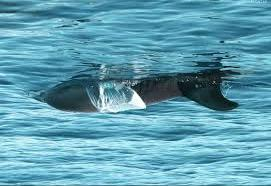Trash: (83, 74, 151, 118)
